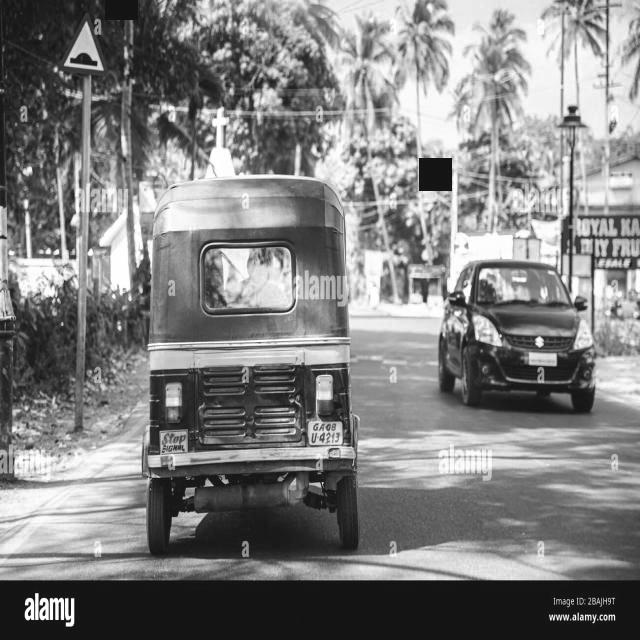Auto-Rickshaw: (146, 172, 370, 562)
